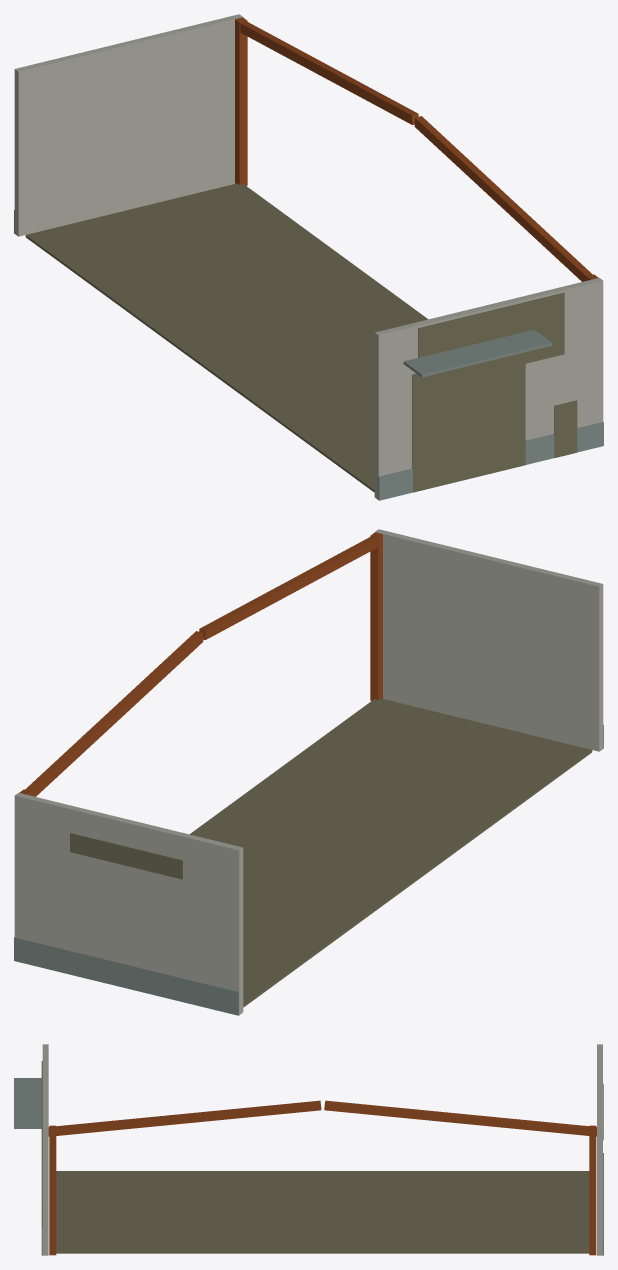
Rendered from SM_NavePoligono_Modulo_e3_Quemada_LOD1.fbx.
The picture shows the model from 3 angles, top to bottom: view 1: azimuth 30°, elevation 25°; view 2: azimuth 150°, elevation 25°; view 3: azimuth 270°, elevation 25°; orthographic projection. The views are drawn at different scales.
Visible parts, largest first — view 1: SM_nave_poligono_v3_LOD1; view 2: SM_nave_poligono_v3_LOD1; view 3: SM_nave_poligono_v3_LOD1.
Part boxes in pixels (left/top/right/bottom): SM_nave_poligono_v3_LOD1: left=14, top=14, right=603, bottom=500; SM_nave_poligono_v3_LOD1: left=14, top=529, right=603, bottom=1015; SM_nave_poligono_v3_LOD1: left=14, top=1044, right=603, bottom=1255.
Size of the model in its own units: 9.98 by 8.39 by 29.49.
